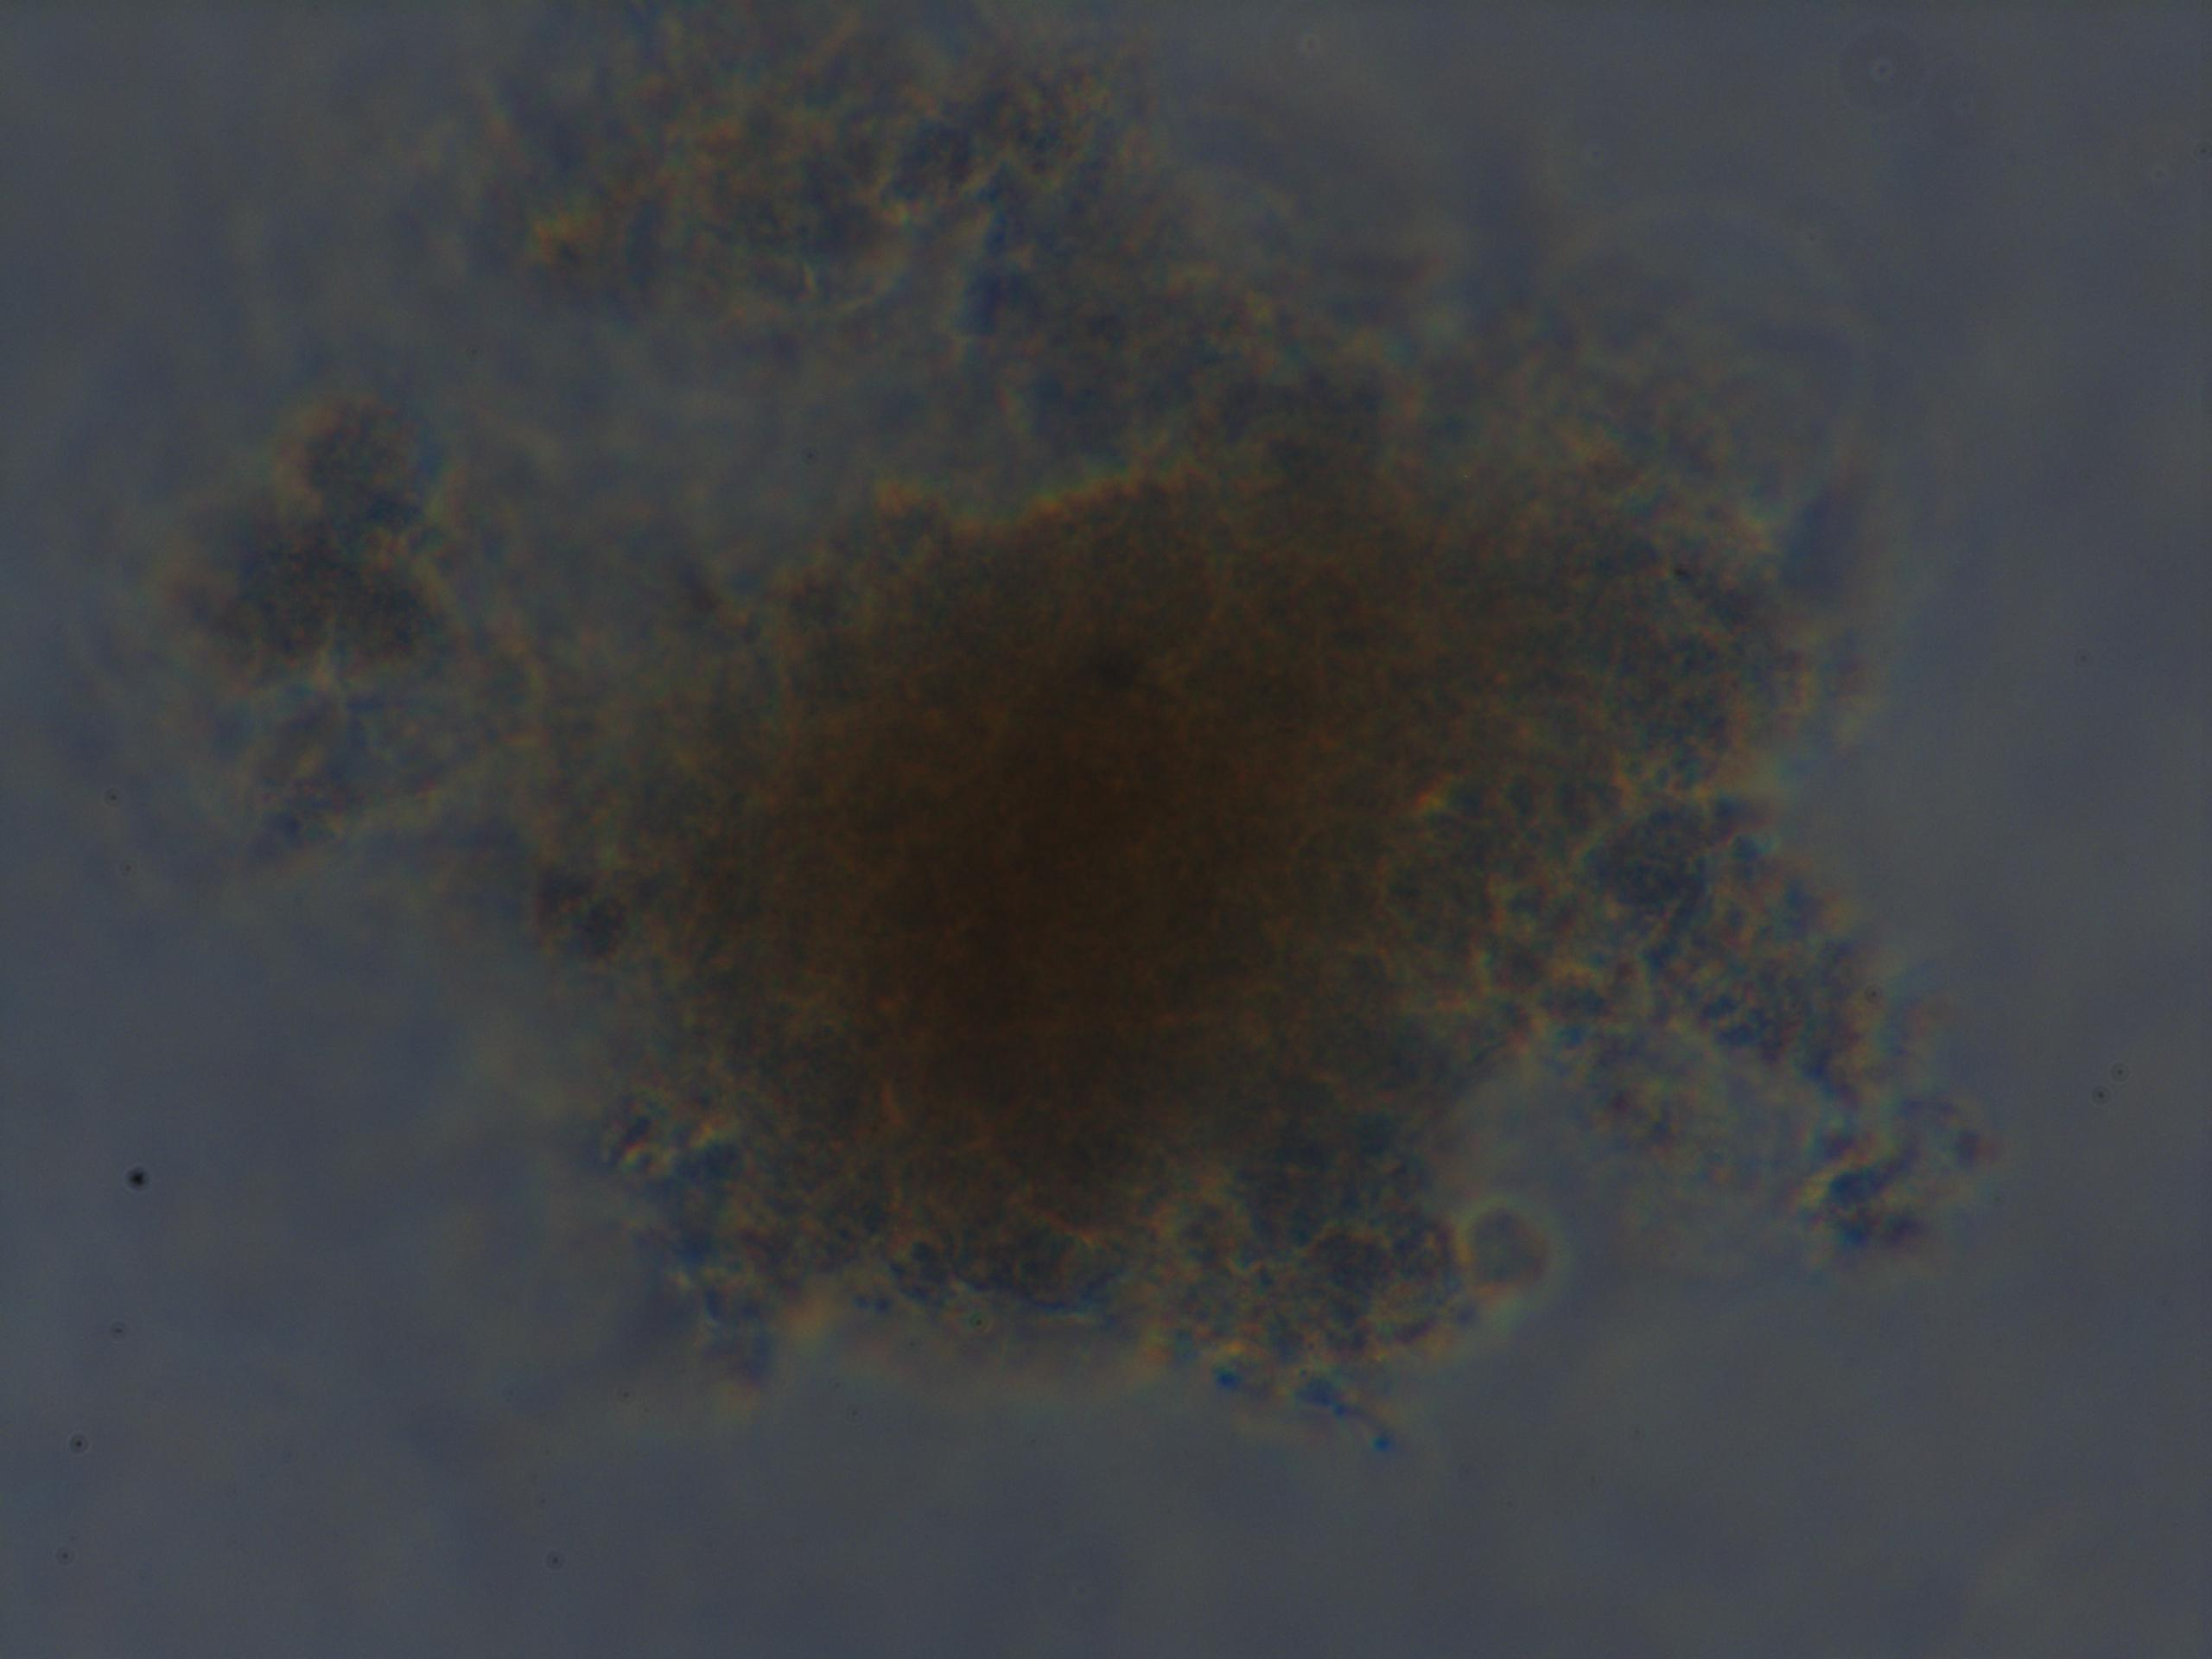spherical_floc: (561, 408, 1831, 1385)
